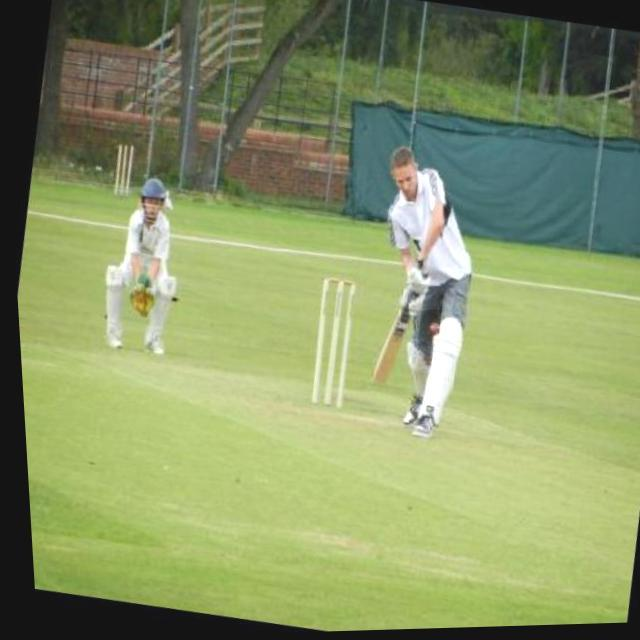-: (412, 312, 442, 349)
